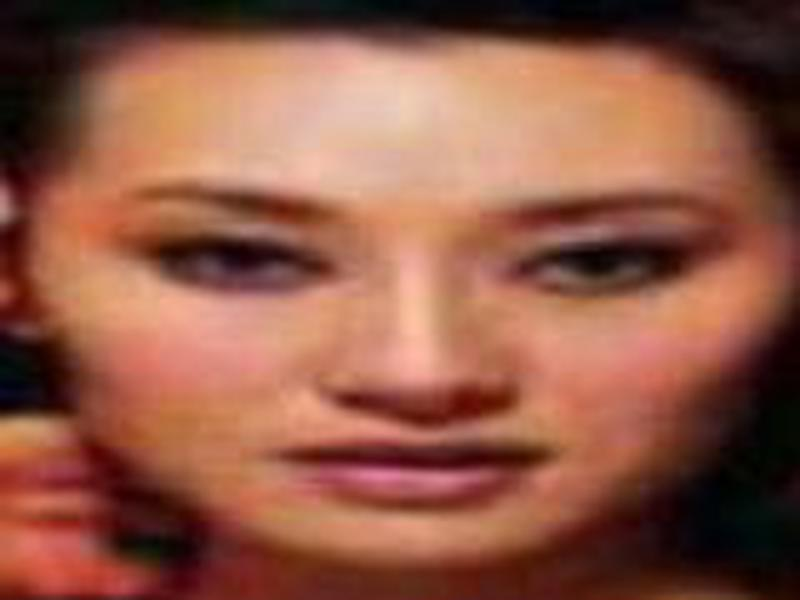without_mask: (25, 38, 782, 568)
